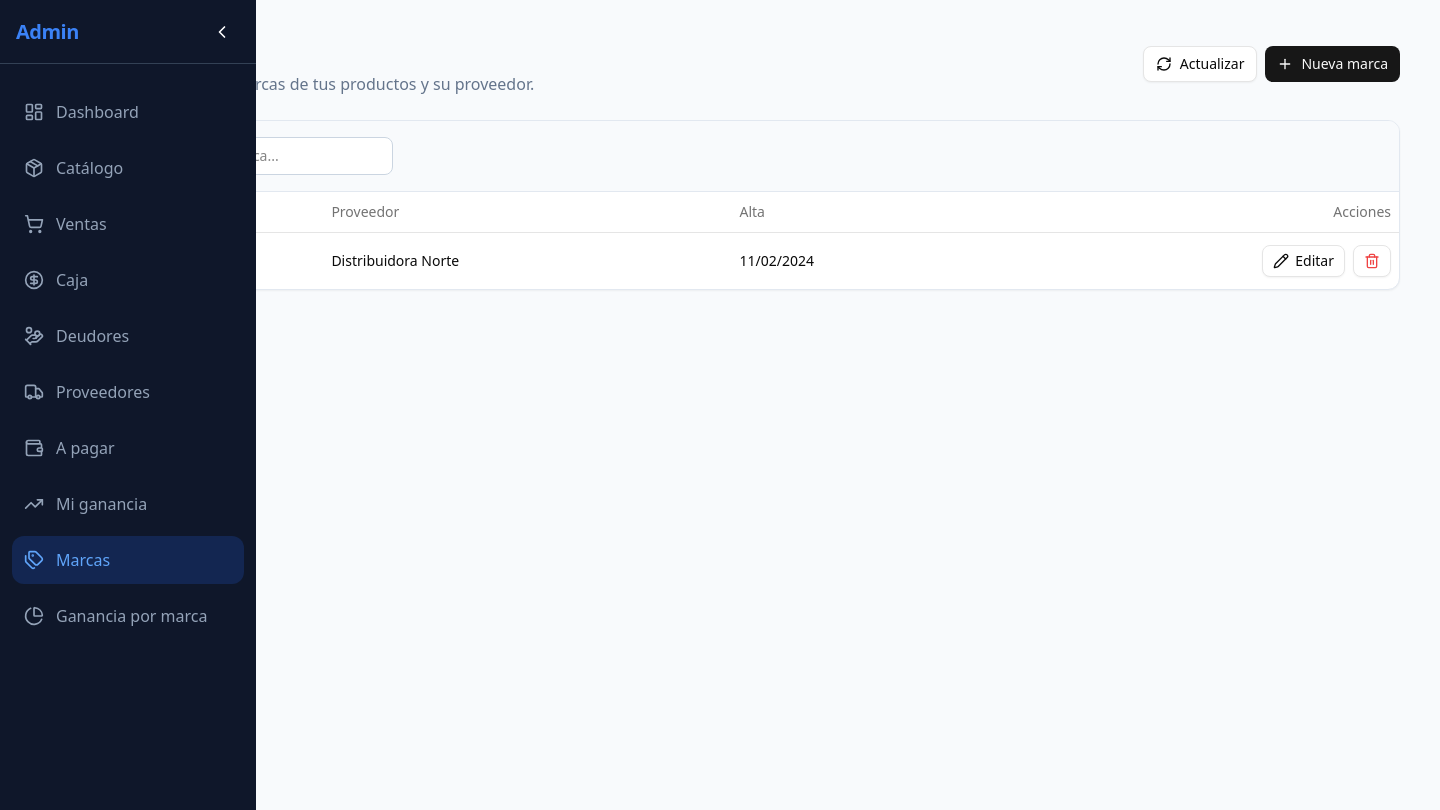
Test case: BrandsPage — vista de tabla (desktop) › el estado vacío se muestra una vez en la tabla, con el mismo texto que la card
Type "zzz" into the field with placeholder "Buscar marca..." at {"x": 265, "y": 156}, box x1=137 y1=137 x2=393 y2=175
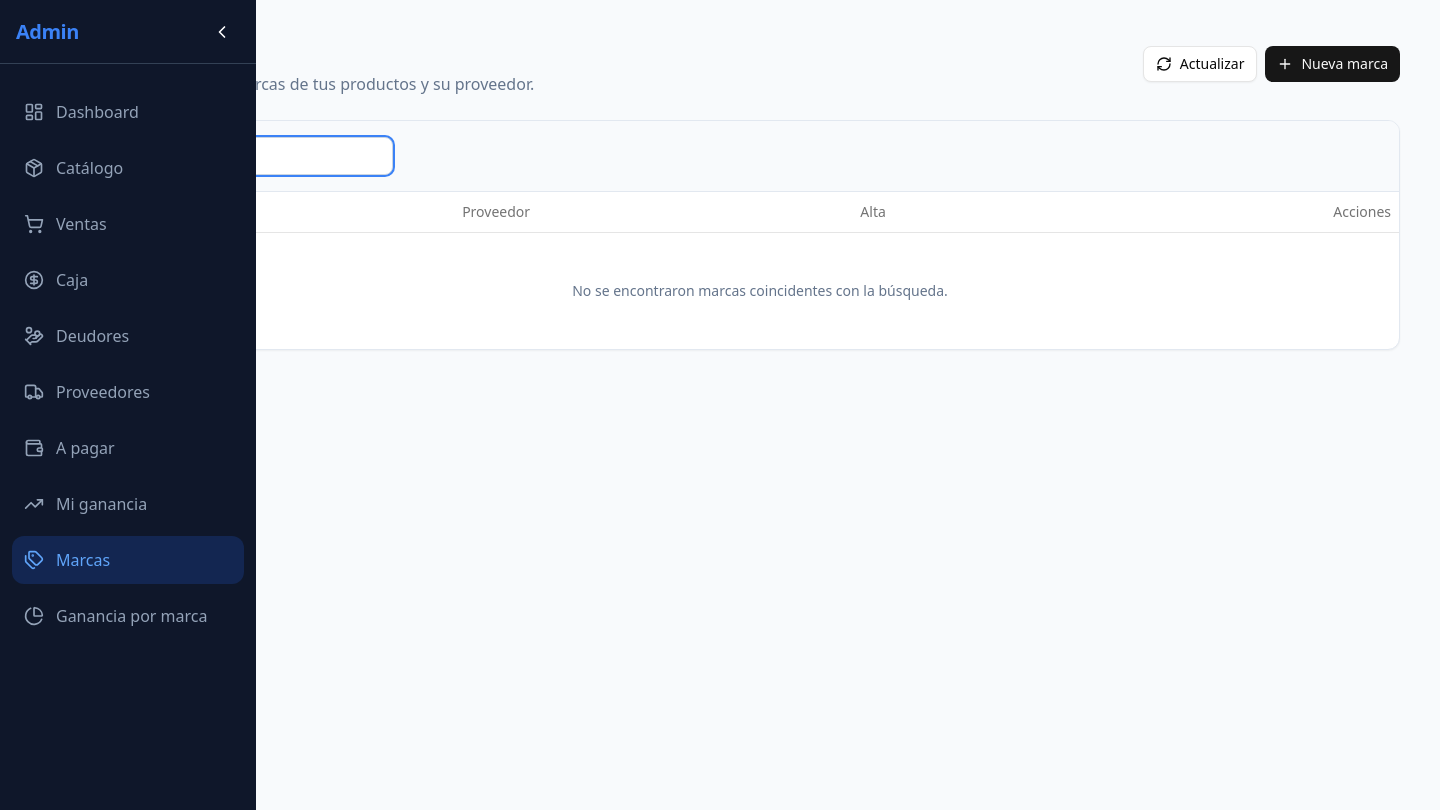
Result: the text "No se encontraron marcas coincidentes con la búsqueda." is shown at x1=121 y1=232 x2=1399 y2=348
